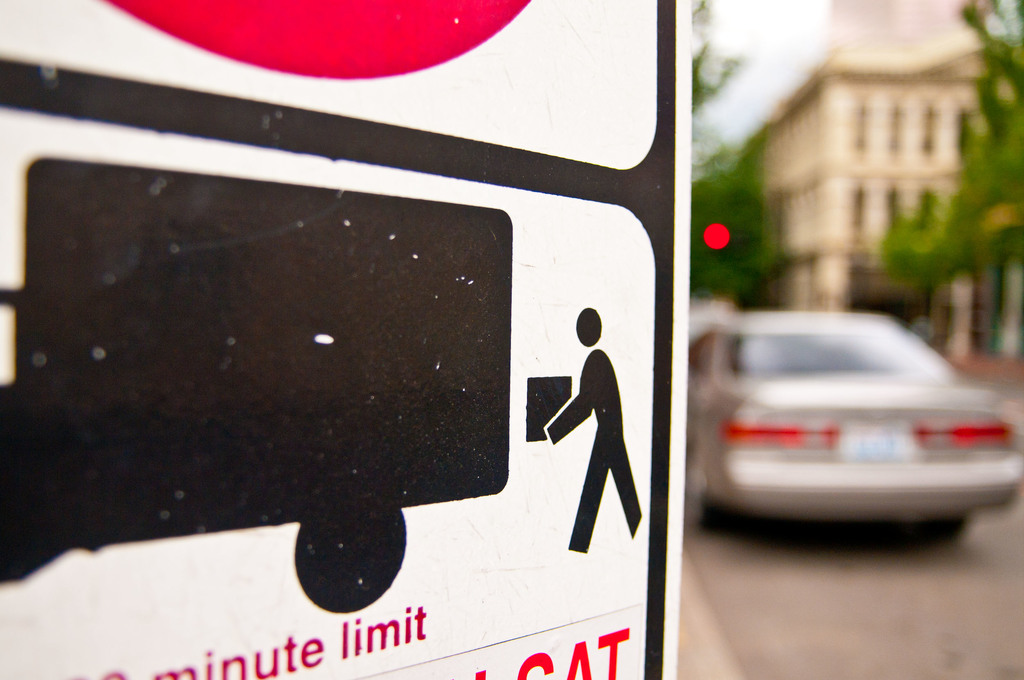car: (689, 274, 1020, 572)
